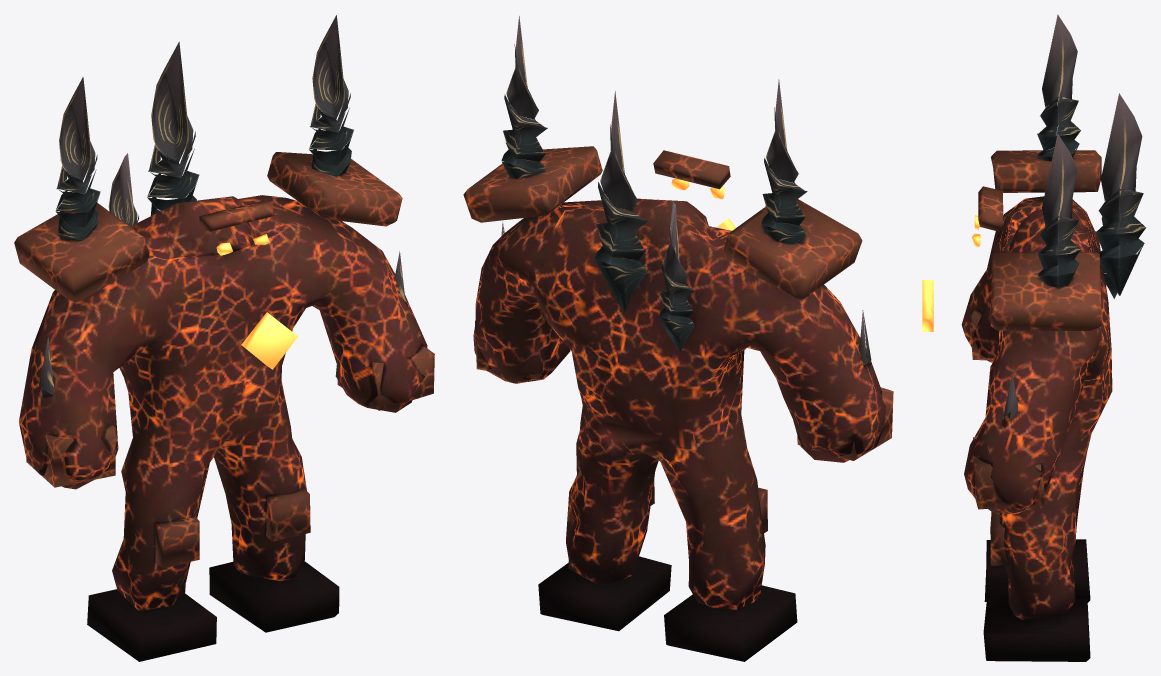
Rendered from u_colossus_x_g.glb.
The picture shows the model from 3 angles, left to right: view 1: azimuth 30°, elevation 25°; view 2: azimuth 150°, elevation 25°; view 3: azimuth 270°, elevation 25°; orthographic projection. The views are drawn at different scales.
Parts seen in each view (by area): view 1: u_colossus_x; view 2: u_colossus_x; view 3: u_colossus_x.
Boxes of the visible parts, x1,y1,x2,y2 form: u_colossus_x: (14,15,434,661); u_colossus_x: (463,16,893,661); u_colossus_x: (922,14,1146,661).
Bounding box in the file's own units: 4.98 × 6.88 × 2.57.
3 materials, 3 textured.
